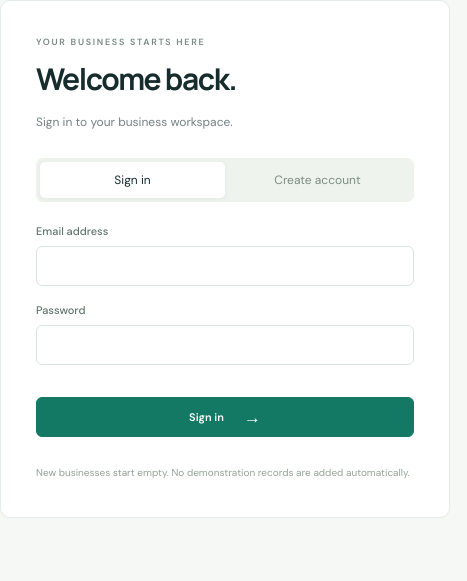
Scenario: Identity and workspaces › shows authentication failures and restores the form
The image size is (467, 581).
Type "owner@example.com" into the field labelled "Email address" at (225, 266), box [36,246,414,286]
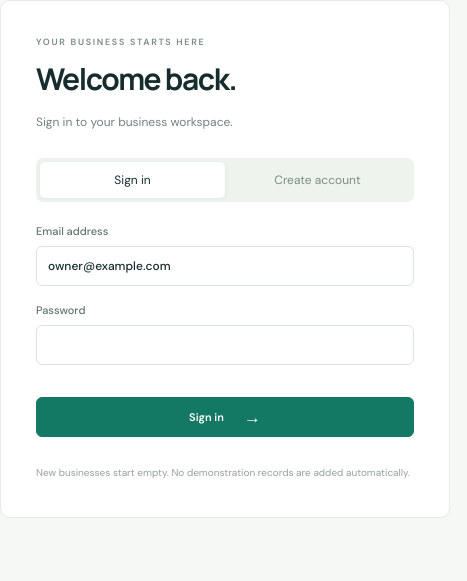
Type "incorrect password" into the password field labelled "Password" at (225, 345), box [36,325,414,365]
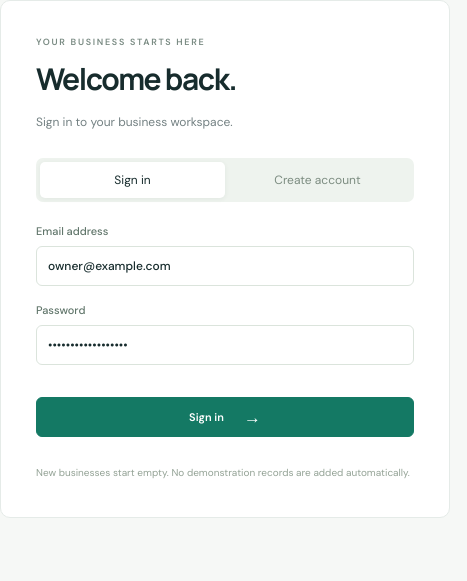
Submit the form labelled "Password", box [36,224,414,452]
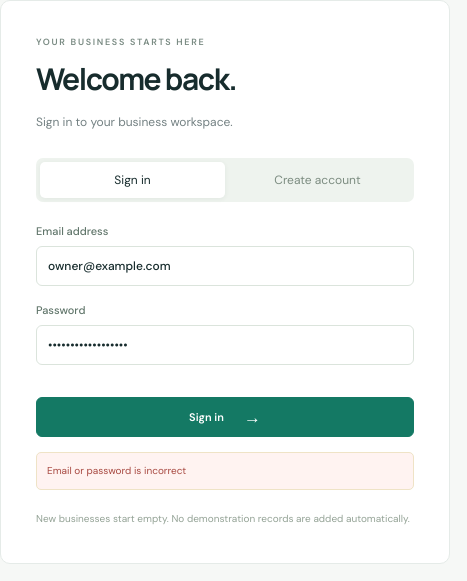
Check: the password field labelled "Password" is enabled, box [36,325,414,365]
Check: the message reads "Email or password is incorrect", box [47,464,186,477]
